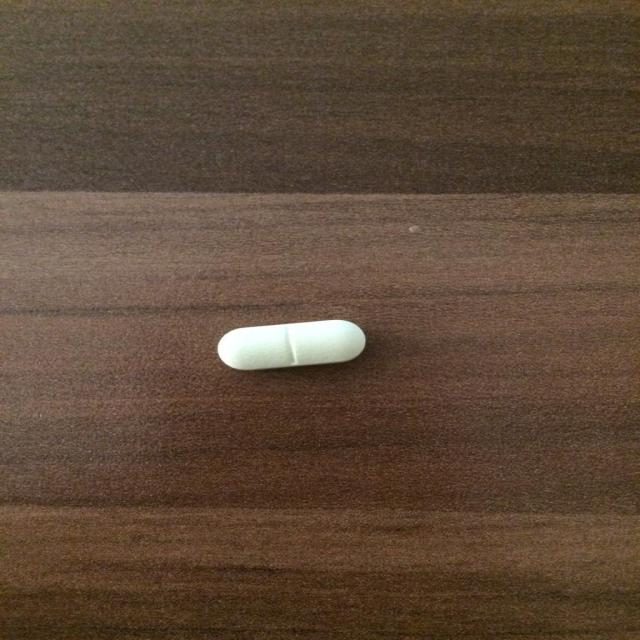pills: (204, 317, 376, 374)
